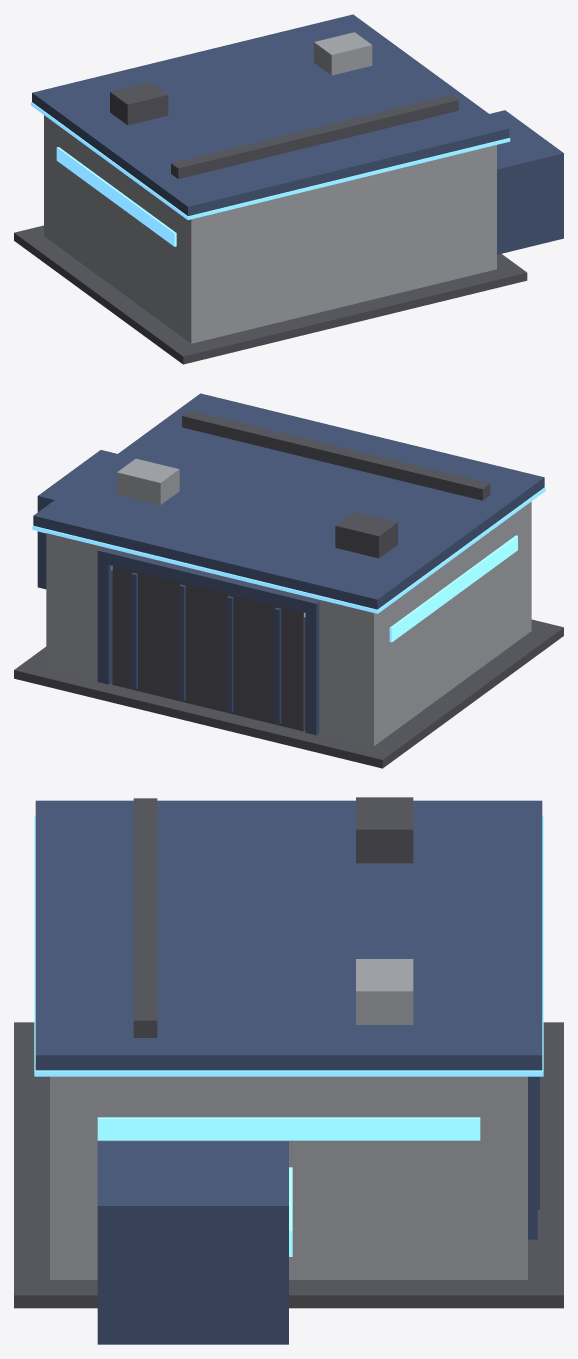
File: us_vehicle_factory.glb
The picture shows the model from 3 angles, top to bottom: view 1: azimuth 30°, elevation 25°; view 2: azimuth 150°, elevation 25°; view 3: azimuth 270°, elevation 25°; orthographic projection. The views are drawn at different scales.
Visible parts, largest first — view 1: Hall, RoofSlab, Pad, Office, CraneRail, RoofStrip, VentB, VentA, WinR; view 2: RoofSlab, Hall, DoorPanel, Pad, CraneRail, DoorFrameT, RoofStrip, VentB, VentA, WinR, DoorFrameL, DoorFrameR (+5 smaller); view 3: RoofSlab, Hall, Office, Pad, WinL, CraneRail, RoofStrip, VentA, VentB, DoorFrameR.
Part boxes in pixels (left/top/right/bottom): Hall: left=44, top=115, right=496, bottom=343; RoofSlab: left=32, top=14, right=509, bottom=215; Pad: left=14, top=225, right=527, bottom=364; Office: left=490, top=110, right=563, bottom=254; CraneRail: left=171, top=95, right=458, bottom=178; RoofStrip: left=31, top=102, right=510, bottom=219; VentB: left=314, top=32, right=372, bottom=75; VentA: left=110, top=82, right=168, bottom=125; WinR: left=56, top=147, right=176, bottom=246; RoofSlab: left=33, top=393, right=544, bottom=609; Hall: left=46, top=501, right=531, bottom=746; DoorPanel: left=112, top=565, right=305, bottom=731; Pad: left=14, top=619, right=563, bottom=768; CraneRail: left=182, top=410, right=490, bottom=500; DoorFrameT: left=103, top=549, right=313, bottom=612; RoofStrip: left=32, top=487, right=545, bottom=613; VentB: left=117, top=458, right=179, bottom=504; VentA: left=335, top=512, right=397, bottom=558; WinR: left=389, top=535, right=517, bottom=642; DoorFrameL: left=305, top=600, right=319, bottom=735; DoorFrameR: left=97, top=548, right=111, bottom=684; RoofSlab: left=35, top=800, right=542, bottom=1070; Hall: left=50, top=1076, right=527, bottom=1279; Office: left=97, top=1141, right=288, bottom=1344; Pad: left=14, top=1022, right=563, bottom=1308; WinL: left=97, top=1117, right=480, bottom=1140; CraneRail: left=133, top=798, right=157, bottom=1037; RoofStrip: left=34, top=816, right=543, bottom=1076; VentA: left=356, top=797, right=413, bottom=863; VentB: left=356, top=959, right=413, bottom=1024; DoorFrameR: left=528, top=1076, right=537, bottom=1239.
Bounding box in the file's own units: 15.95 × 6.4 × 11.5.
